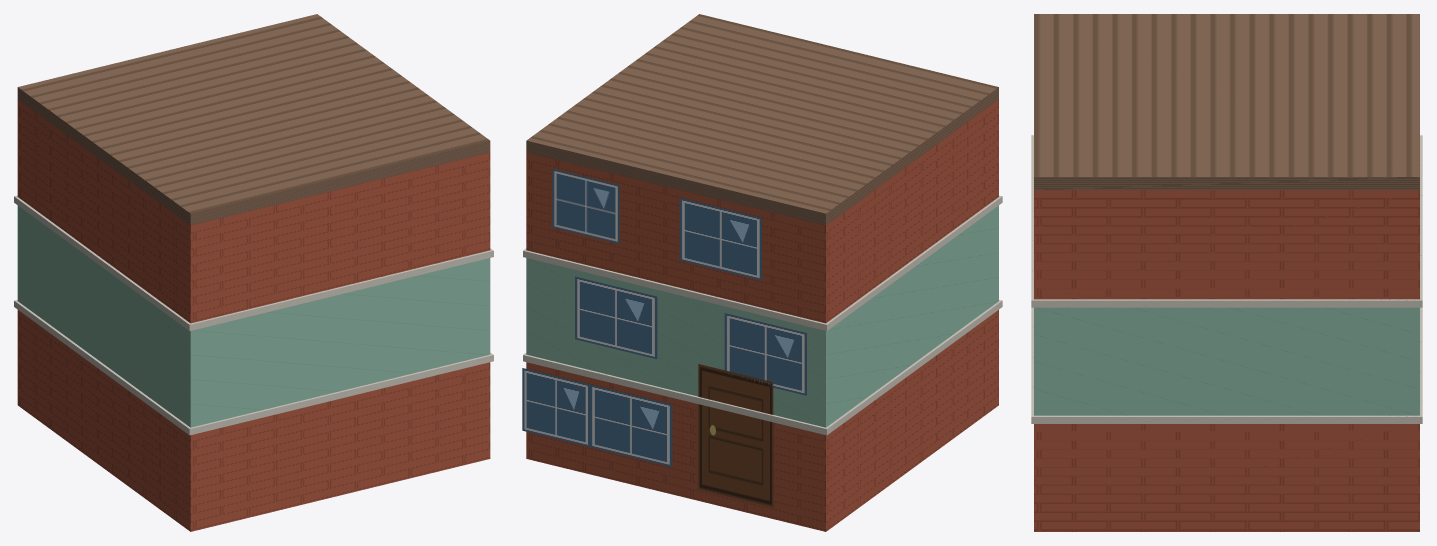
The model's file is casa_lima_4x4_v2.glb.
3 renders of one model, left to right at view 1: azimuth 30°, elevation 25°; view 2: azimuth 150°, elevation 25°; view 3: azimuth 270°, elevation 25°, orthographic. The views are drawn at different scales.
Visible parts, largest first — view 1: roof, lvl3, lvl2, lvl1, trim1, trim2; view 2: roof, lvl3, lvl2, lvl1, door, win2b, win3a, win1a, win2a, win1b, trim2, trim1 (+1 smaller); view 3: roof, lvl3, lvl2, lvl1, trim2, trim1.
Part boxes in pixels (x1,y1,x2,y2): roof: [17, 14, 490, 225]; lvl3: [17, 99, 490, 323]; lvl2: [17, 205, 490, 427]; lvl1: [17, 310, 490, 531]; trim1: [14, 300, 493, 435]; trim2: [14, 195, 493, 330]; roof: [526, 14, 998, 225]; lvl3: [526, 99, 998, 323]; lvl2: [526, 205, 998, 427]; lvl1: [526, 310, 998, 531]; door: [698, 364, 773, 507]; win2b: [575, 276, 657, 358]; win3a: [679, 198, 761, 280]; win1a: [590, 384, 672, 466]; win2a: [724, 313, 806, 395]; win1b: [522, 368, 589, 446]; trim2: [523, 195, 1002, 330]; trim1: [523, 300, 1002, 435]; roof: [1034, 14, 1419, 190]; lvl3: [1034, 190, 1419, 299]; lvl2: [1034, 307, 1419, 415]; lvl1: [1034, 424, 1419, 531]; trim2: [1031, 135, 1422, 307]; trim1: [1031, 307, 1422, 423].
Bounding box in the file's own units: 4.08 × 4.06 × 4.06.
Materials: 6 (6 with a texture image).
